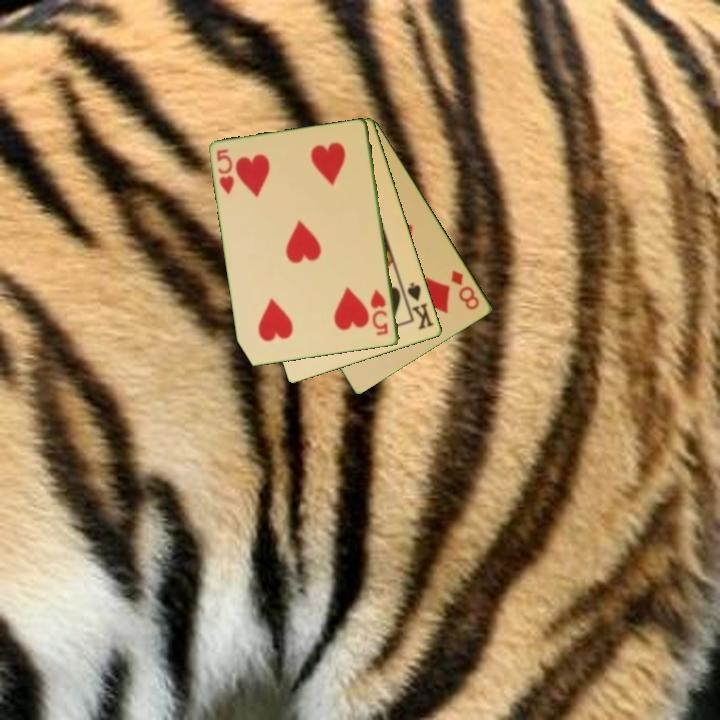5h: (367, 286, 391, 339), (213, 146, 237, 197)
8d: (448, 267, 483, 313)
Ks: (404, 279, 437, 333)
